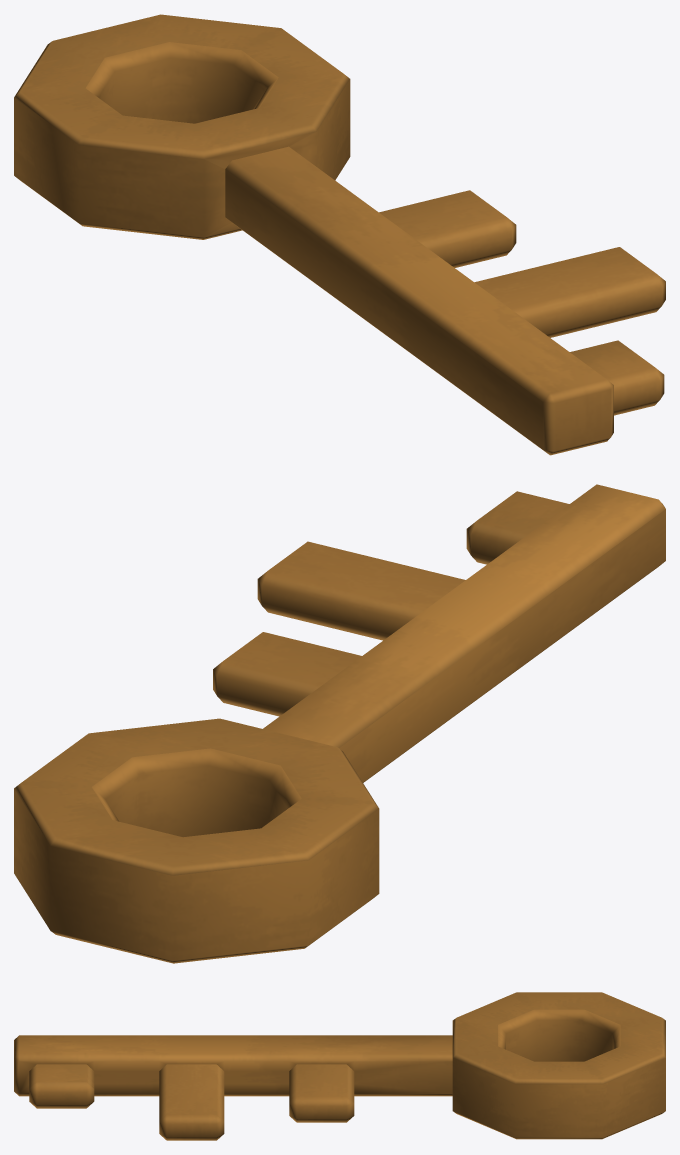
The model's file is Key_MESH_02.fbx.
3 renders of one model, top to bottom at view 1: azimuth 30°, elevation 25°; view 2: azimuth 150°, elevation 25°; view 3: azimuth 270°, elevation 25°, orthographic. The views are drawn at different scales.
Visible parts, largest first — view 1: WinKey_MESH_01; view 2: WinKey_MESH_01; view 3: WinKey_MESH_01.
Part boxes in pixels (bbox=[...]): WinKey_MESH_01: bbox=[14, 14, 665, 455]; WinKey_MESH_01: bbox=[14, 484, 665, 963]; WinKey_MESH_01: bbox=[14, 992, 665, 1140].
Size of the model in its own units: 80.15 by 20.52 by 201.
